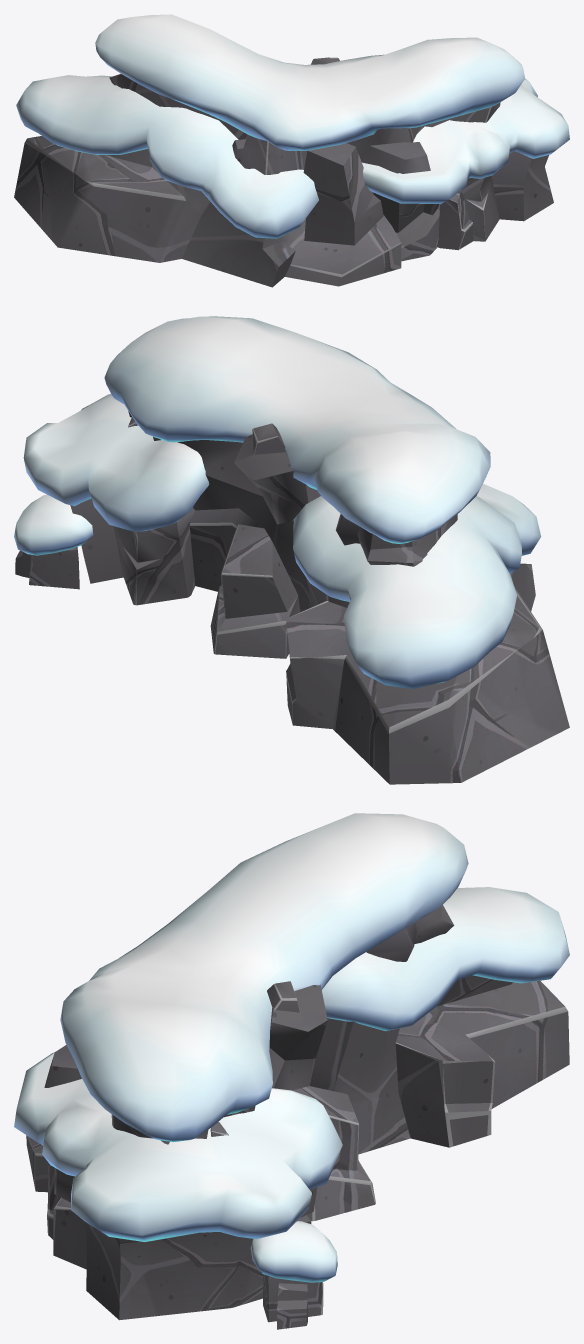
Rendered from DefaultIglooLotRockWallA.fbx.
3 views of the same model, one above another, from view 1: azimuth 30°, elevation 25°; view 2: azimuth 150°, elevation 25°; view 3: azimuth 270°, elevation 25° (orthographic). The views are drawn at different scales.
Parts seen in each view (by area): view 1: Snow, Rock; view 2: Snow, Rock; view 3: Snow, Rock.
Part boxes in pixels (x1,y1,x2,y2): Snow: (16,14,569,238); Rock: (14,57,553,287); Snow: (14,316,541,689); Rock: (15,411,569,784); Snow: (14,813,569,1282); Rock: (26,905,569,1329).
Bounding box in the file's own units: 1271 × 535 × 962.
